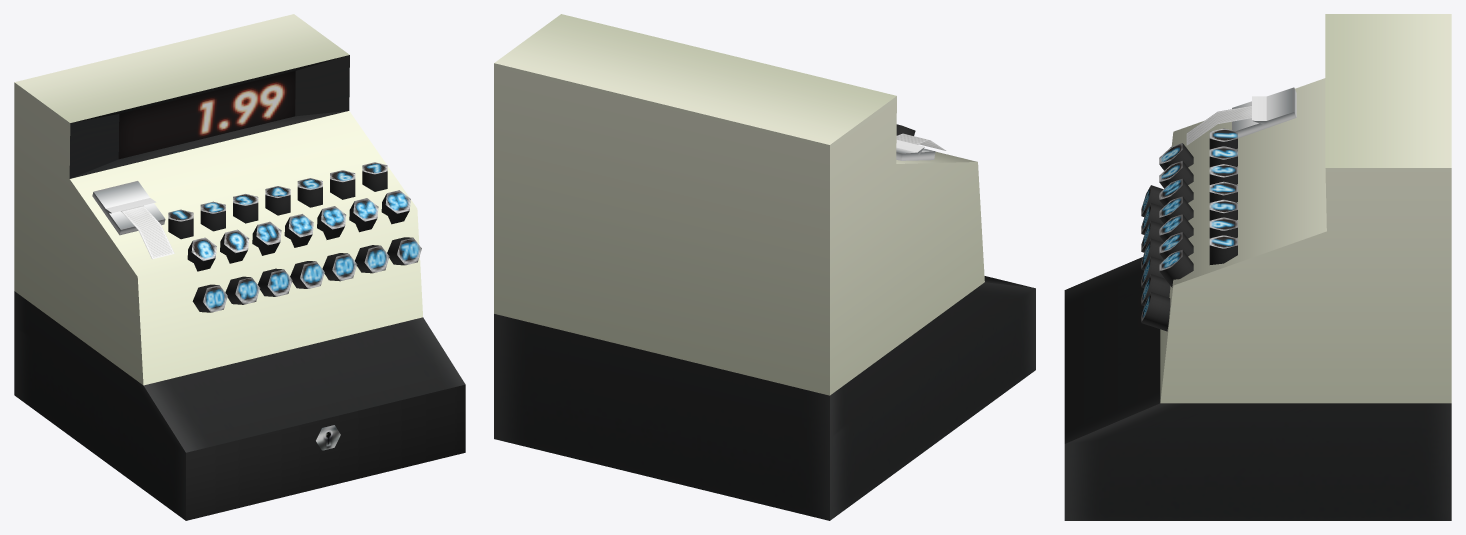
The model's file is Cash_Register_A.FBX.
3 views of the same model, side by side, from view 1: azimuth 30°, elevation 25°; view 2: azimuth 150°, elevation 25°; view 3: azimuth 270°, elevation 25° (orthographic). The views are drawn at different scales.
Visible parts, largest first — view 1: Cash Register; view 2: Cash Register; view 3: Cash Register.
Boxes of the visible parts, x1=… form: Cash Register: x1=14, y1=14, x2=465, y2=520; Cash Register: x1=494, y1=14, x2=1035, y2=520; Cash Register: x1=1064, y1=14, x2=1451, y2=520.
Size of the model in its own units: 110 by 117 by 117.
